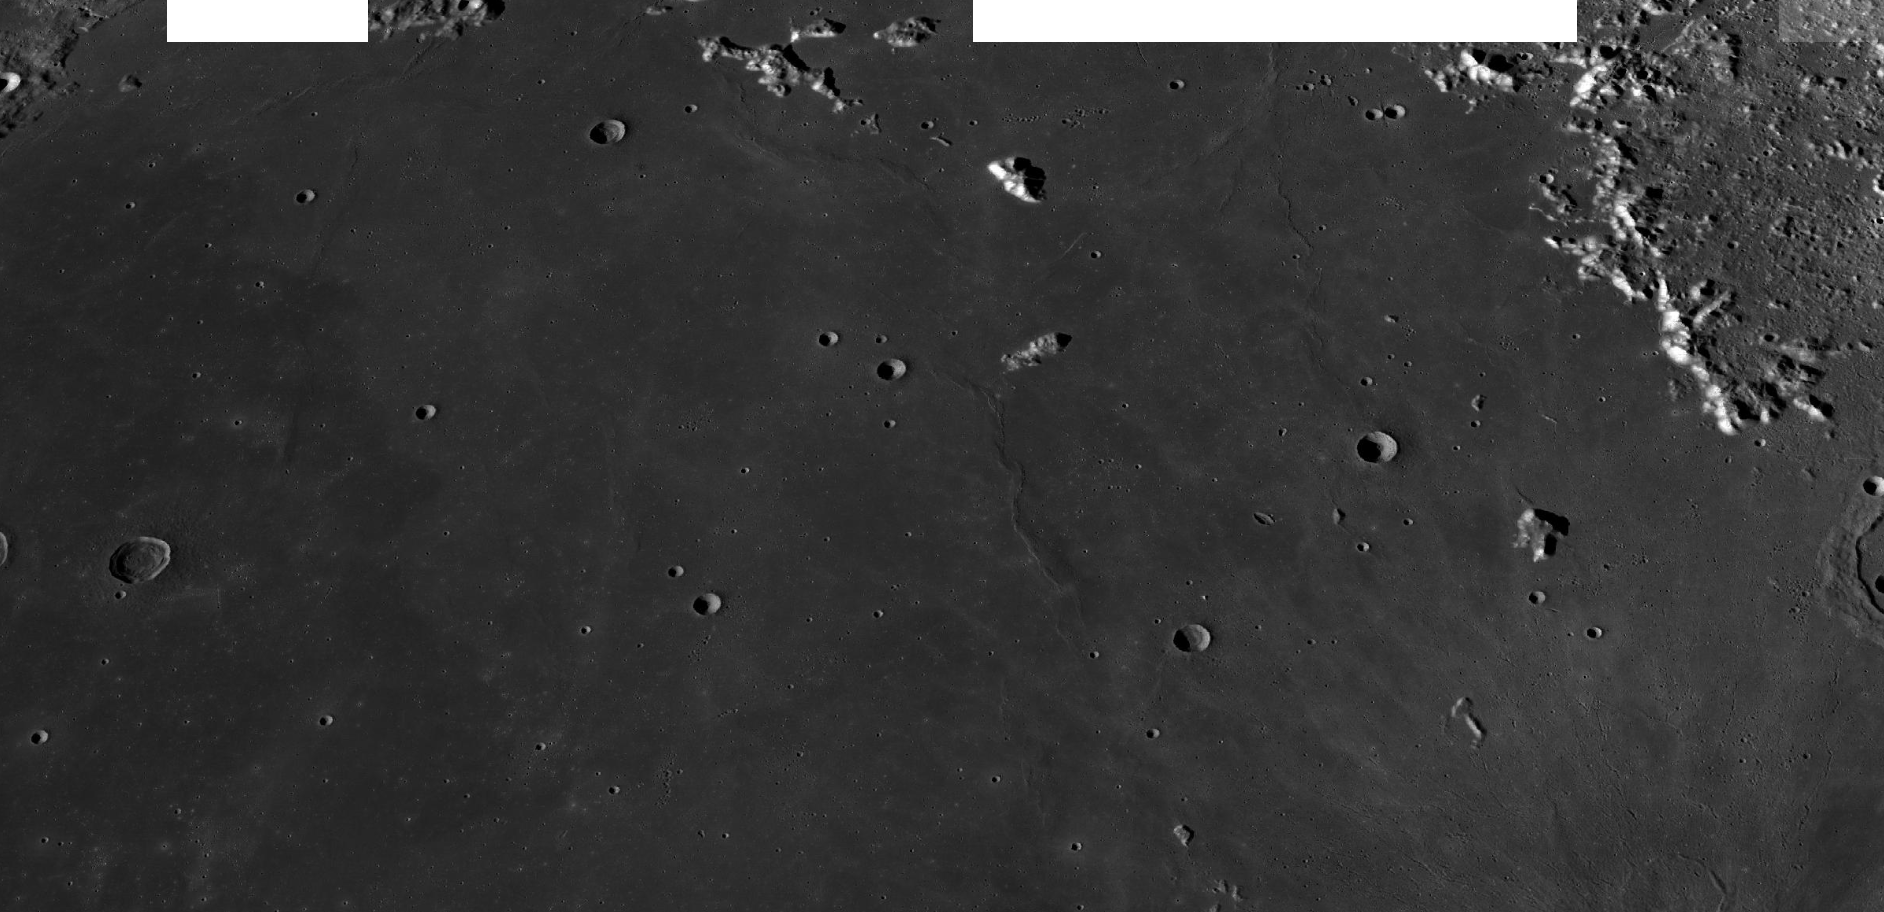crater: (1141, 596, 1253, 702), (83, 527, 203, 610), (1335, 415, 1435, 493), (558, 93, 657, 165)
